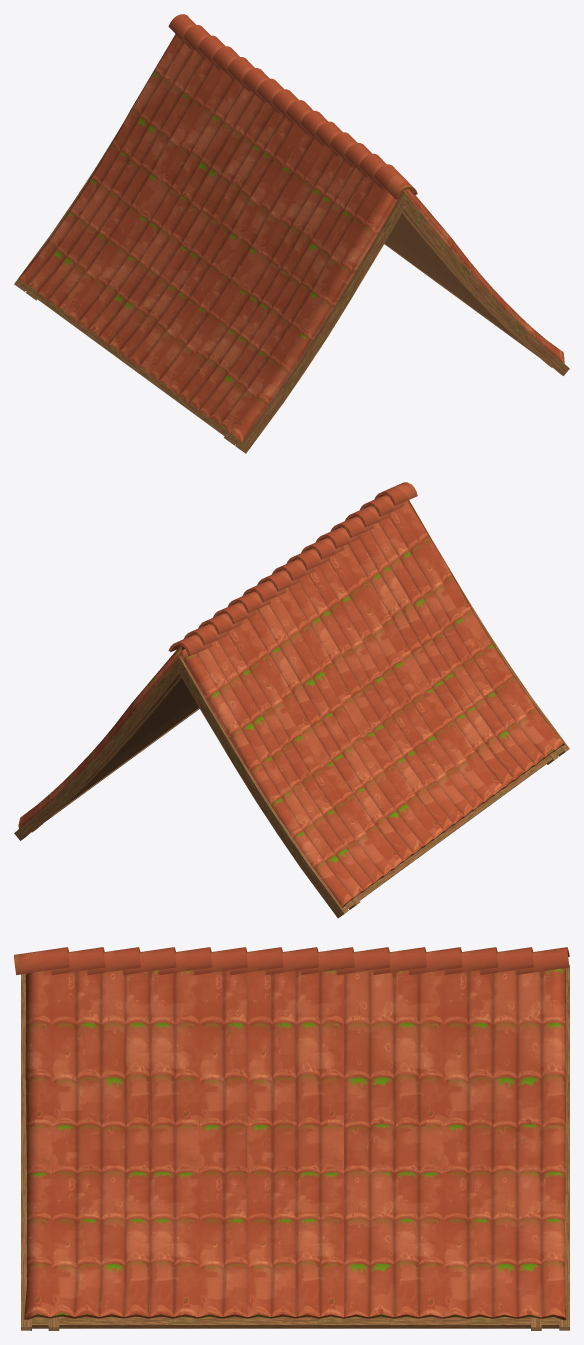
The model's file is Roof_RoundTiles_8x10.glb.
The picture shows the model from 3 angles, top to bottom: view 1: azimuth 30°, elevation 25°; view 2: azimuth 150°, elevation 25°; view 3: azimuth 270°, elevation 25°; orthographic projection. The views are drawn at different scales.
Parts seen in each view (by area): view 1: Roof_RoundTiles_8x10; view 2: Roof_RoundTiles_8x10; view 3: Roof_RoundTiles_8x10.
Part boxes in pixels (box(x1,y1,x2,y2)): Roof_RoundTiles_8x10: box(14, 14, 569, 453); Roof_RoundTiles_8x10: box(14, 482, 569, 918); Roof_RoundTiles_8x10: box(14, 947, 569, 1330).
Size of the model in its own units: 9.95 by 6.78 by 11.86.
Materials: 2 (2 with a texture image).
